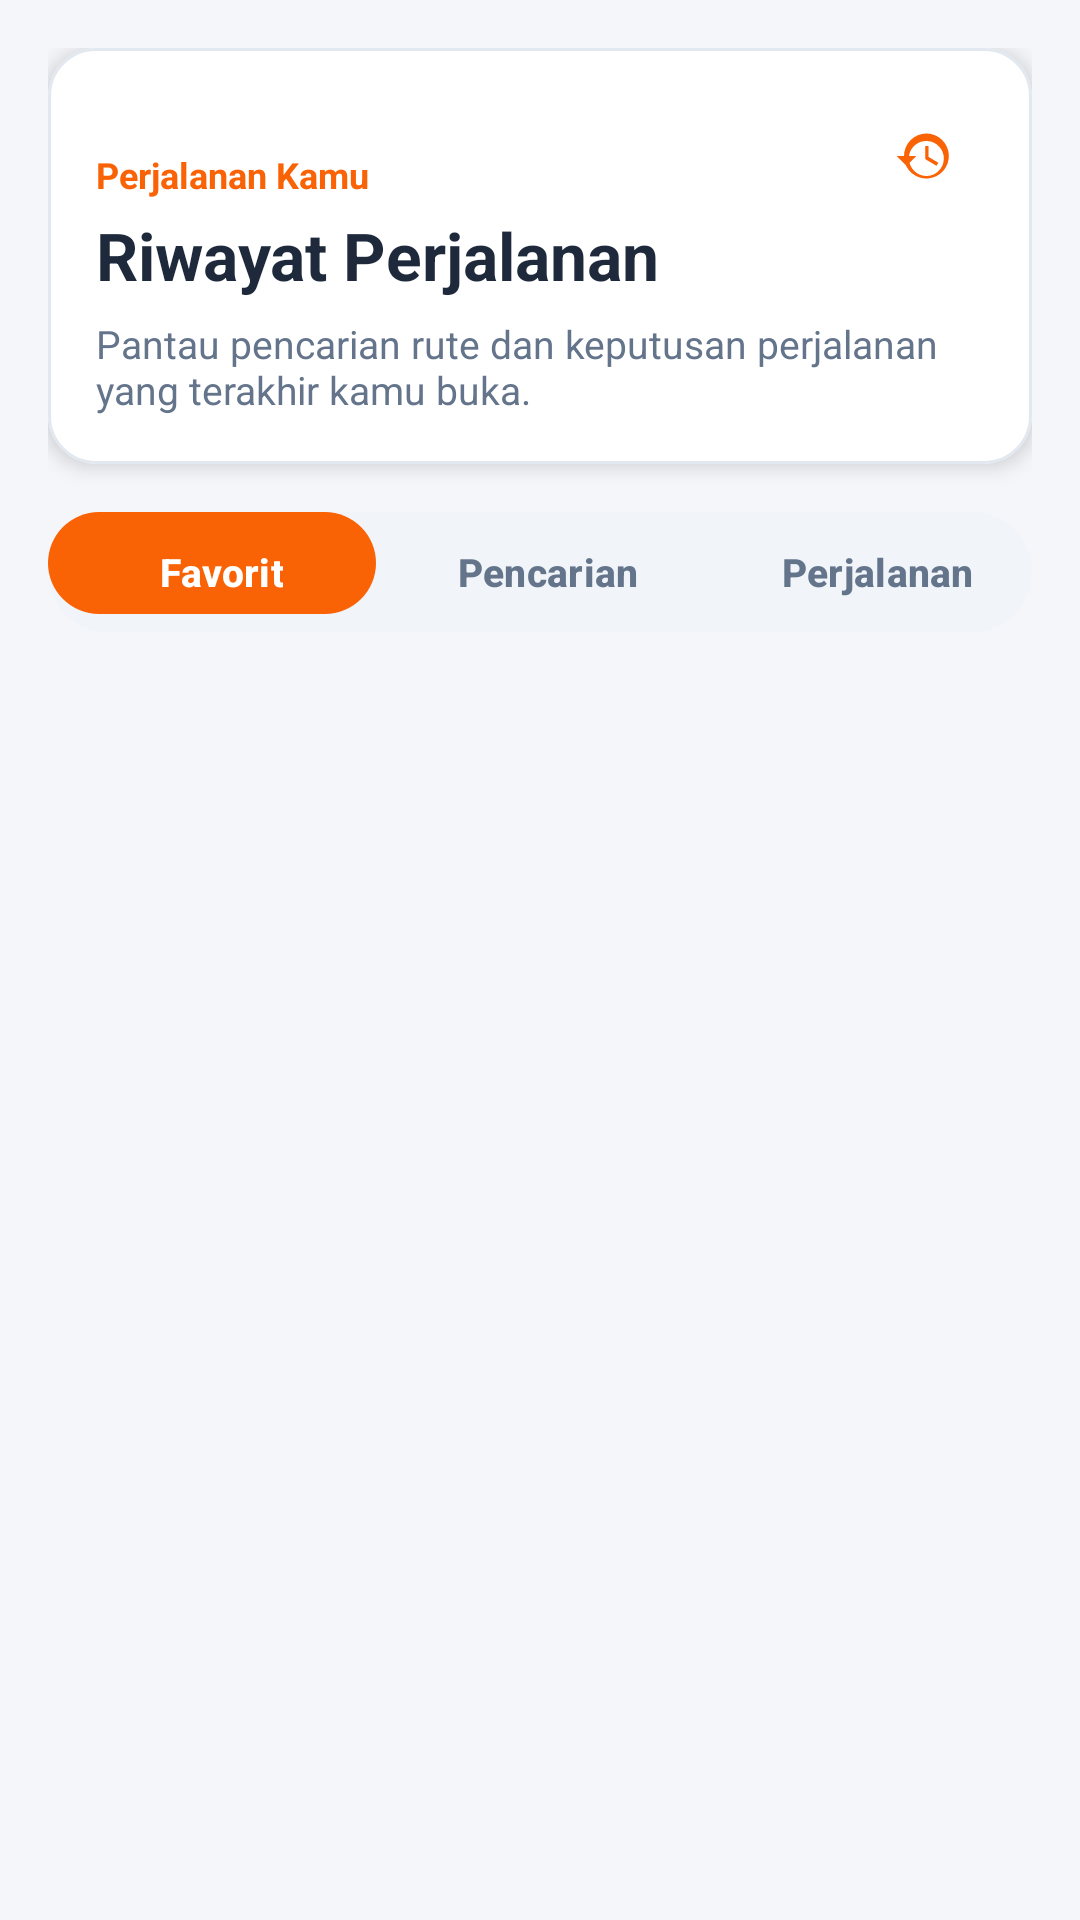

Locate icon controls on the screen. Image size 1080w x 1920h, boxes as (x1, y1, x2, y2).
history: (897, 133, 949, 179)
